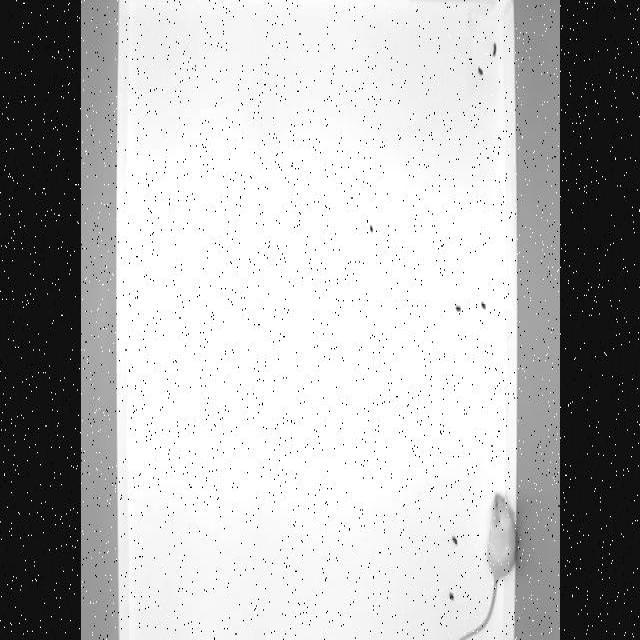rat: (450, 480, 516, 640)
